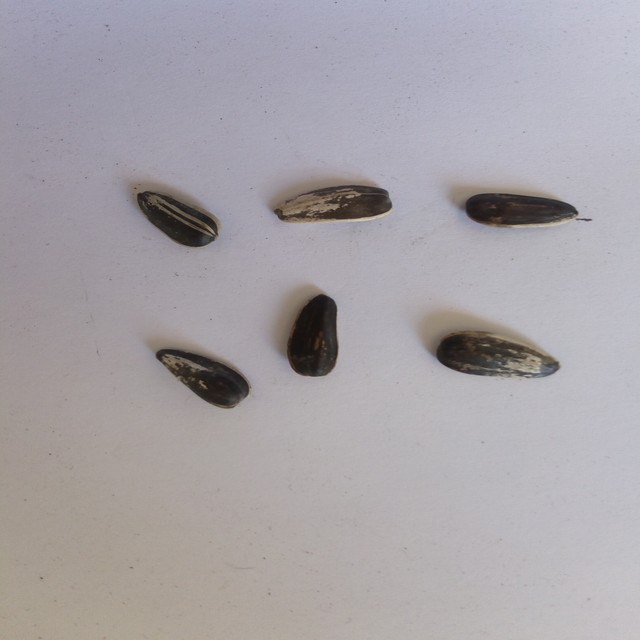girasol: (428, 325, 567, 386), (149, 341, 251, 418), (269, 180, 395, 236), (126, 185, 222, 250), (460, 188, 583, 237), (282, 289, 346, 382)
